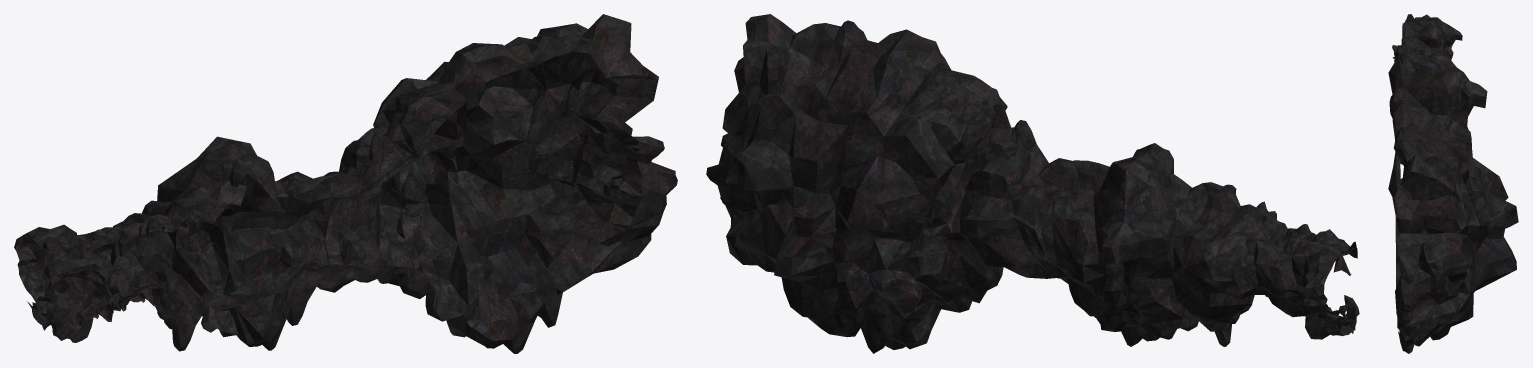
Rendered from huodong_fuben_402_huobaobian.obj.
The picture shows the model from 3 angles, left to right: view 1: azimuth 30°, elevation 25°; view 2: azimuth 150°, elevation 25°; view 3: azimuth 270°, elevation 25°; orthographic projection. The views are drawn at different scales.
Visible parts, largest first — view 1: huodong_fuben_402_huobaobian; view 2: huodong_fuben_402_huobaobian; view 3: huodong_fuben_402_huobaobian.
Boxes of the visible parts, box(x1,y1,x2,y2) form: huodong_fuben_402_huobaobian: box(14, 14, 677, 353); huodong_fuben_402_huobaobian: box(706, 14, 1359, 353); huodong_fuben_402_huobaobian: box(1388, 14, 1518, 353).
Bounding box in the file's own units: 2907 × 1403 × 695.
Materials: 1 (1 with a texture image).
